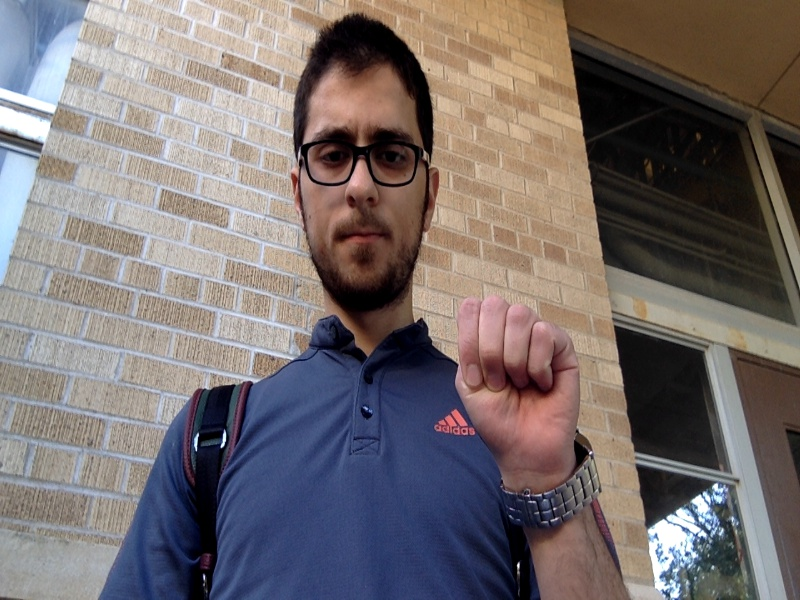0-hand: (454, 298, 579, 473)
